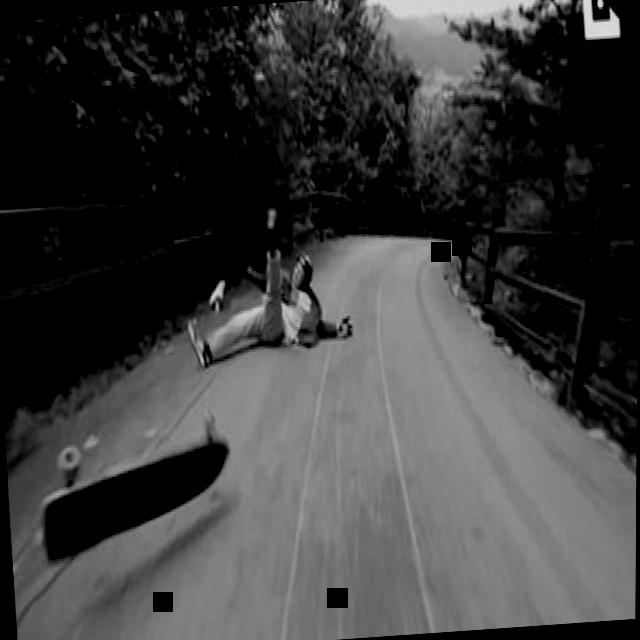Fall-Detected: (173, 174, 357, 376)
